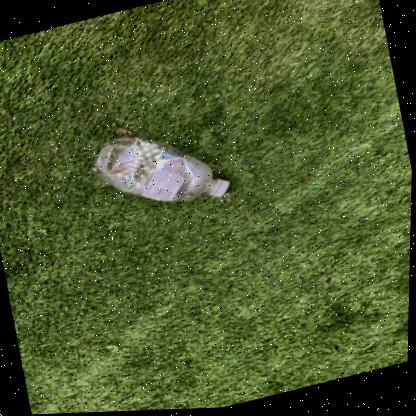Plastic: (92, 127, 229, 201)
